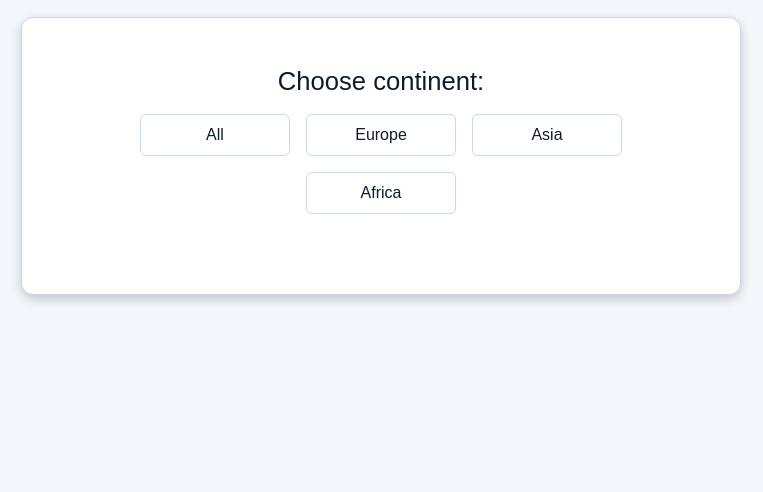
Test case: QuizSetup › question count buttons appear after selecting a continent
Click the button with aria-label "Select all continents" at point(215, 135), box [140,114,290,156]
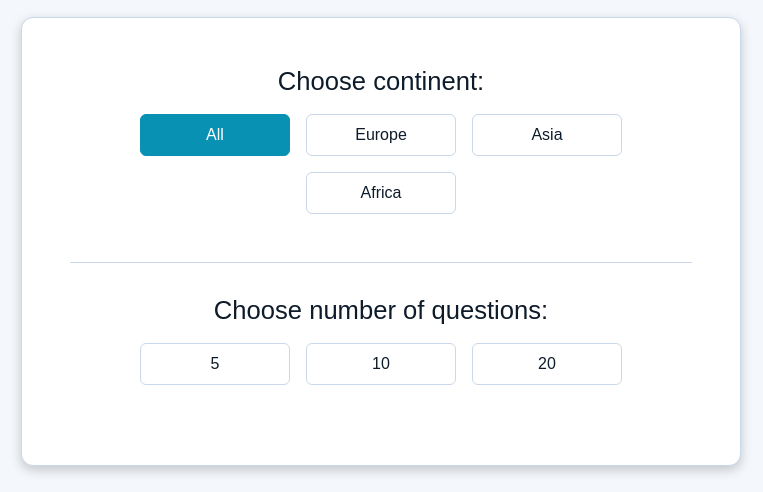
Check: the button named "Select 5 questions" is shown, box [140,343,290,385]
Check: the button named "Select 10 questions" is shown, box [306,343,456,385]
Check: the button named "Select 20 questions" is shown, box [472,343,622,385]
